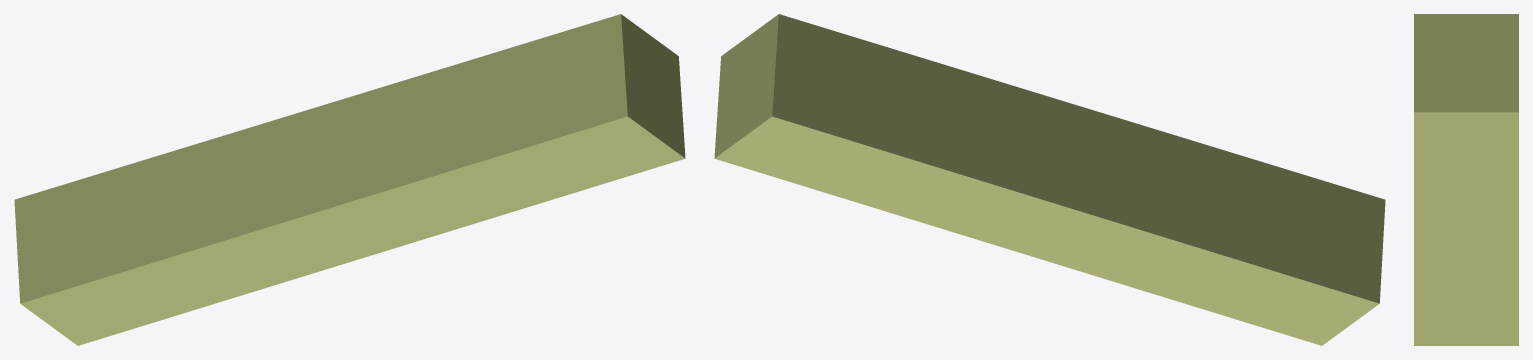
3 renders of one model, left to right at view 1: azimuth 30°, elevation 25°; view 2: azimuth 150°, elevation 25°; view 3: azimuth 270°, elevation 25°, orthographic. The views are drawn at different scales.
Visible parts, largest first — view 1: 0_1_2_0_3_1_0_1_3; view 2: 0_1_2_0_3_1_0_1_3; view 3: 0_1_2_0_3_1_0_1_3.
Part boxes in pixels (left/top/right/bottom): 0_1_2_0_3_1_0_1_3: left=14, top=14, right=685, bottom=345; 0_1_2_0_3_1_0_1_3: left=714, top=14, right=1385, bottom=345; 0_1_2_0_3_1_0_1_3: left=1414, top=14, right=1518, bottom=345.
Bounding box in the file's own units: 36.79 × 8.2 × 6.
